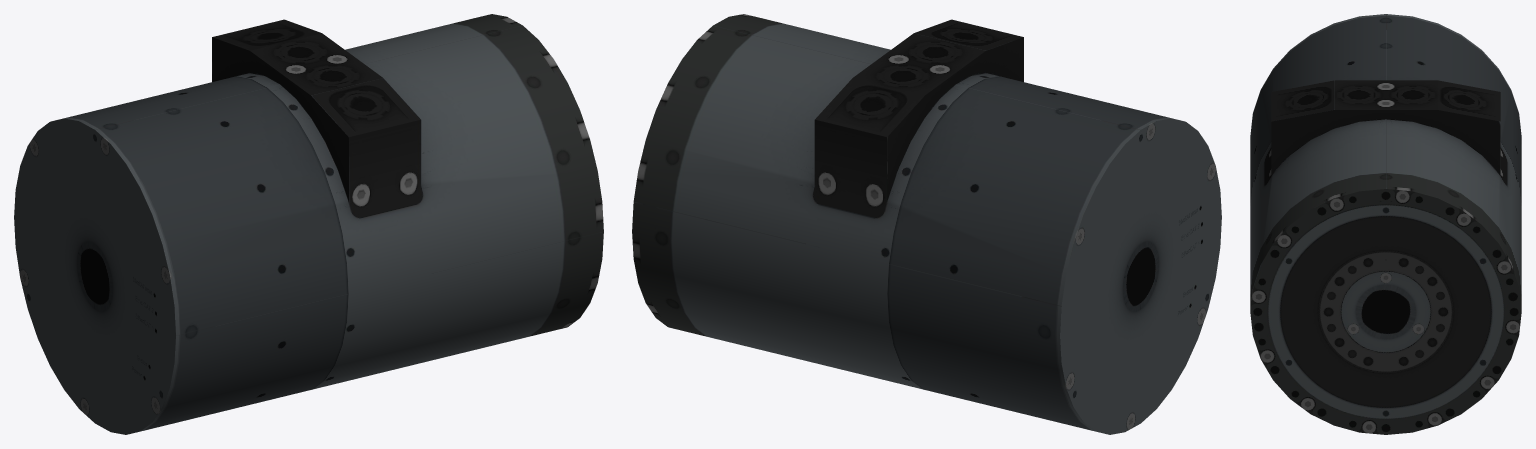
The model's file is drive.dae.
3 renders of one model, left to right at view 1: azimuth 30°, elevation 25°; view 2: azimuth 150°, elevation 25°; view 3: azimuth 270°, elevation 25°, orthographic. The views are drawn at different scales.
Parts seen in each view (by area): view 1: AD3 LP; view 2: AD3 LP; view 3: AD3 LP.
Part boxes in pixels (<box>): AD3 LP: <box>14,14,603,434</box>; AD3 LP: <box>632,14,1221,434</box>; AD3 LP: <box>1250,14,1521,434</box>.
Bounding box in the file's own units: 0.1373 × 0.09 × 0.0935.
Materials: 1 (1 with a texture image).
